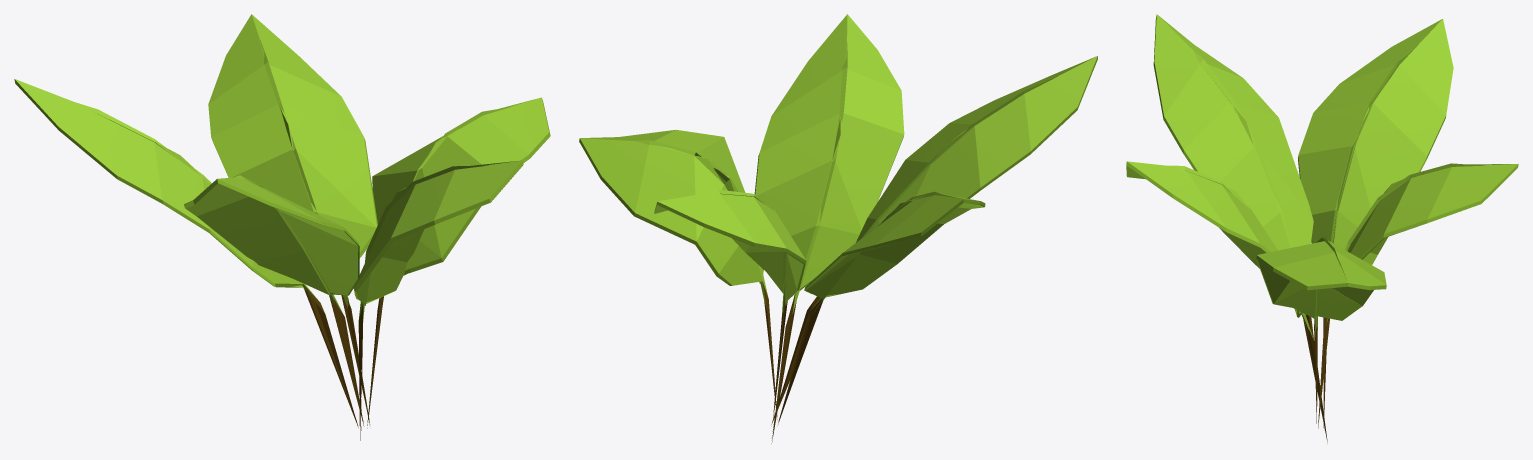
The model's file is Bush.fbx.
3 views of the same model, side by side, from view 1: azimuth 30°, elevation 25°; view 2: azimuth 150°, elevation 25°; view 3: azimuth 270°, elevation 25° (orthographic). The views are drawn at different scales.
Parts seen in each view (by area): view 1: Bush; view 2: Bush; view 3: Bush.
Boxes of the visible parts, left/top/right/bottom form: Bush: left=14, top=14, right=550, bottom=440; Bush: left=579, top=14, right=1097, bottom=443; Bush: left=1126, top=14, right=1518, bottom=442.
Size of the model in its own units: 123 by 100 by 107.
